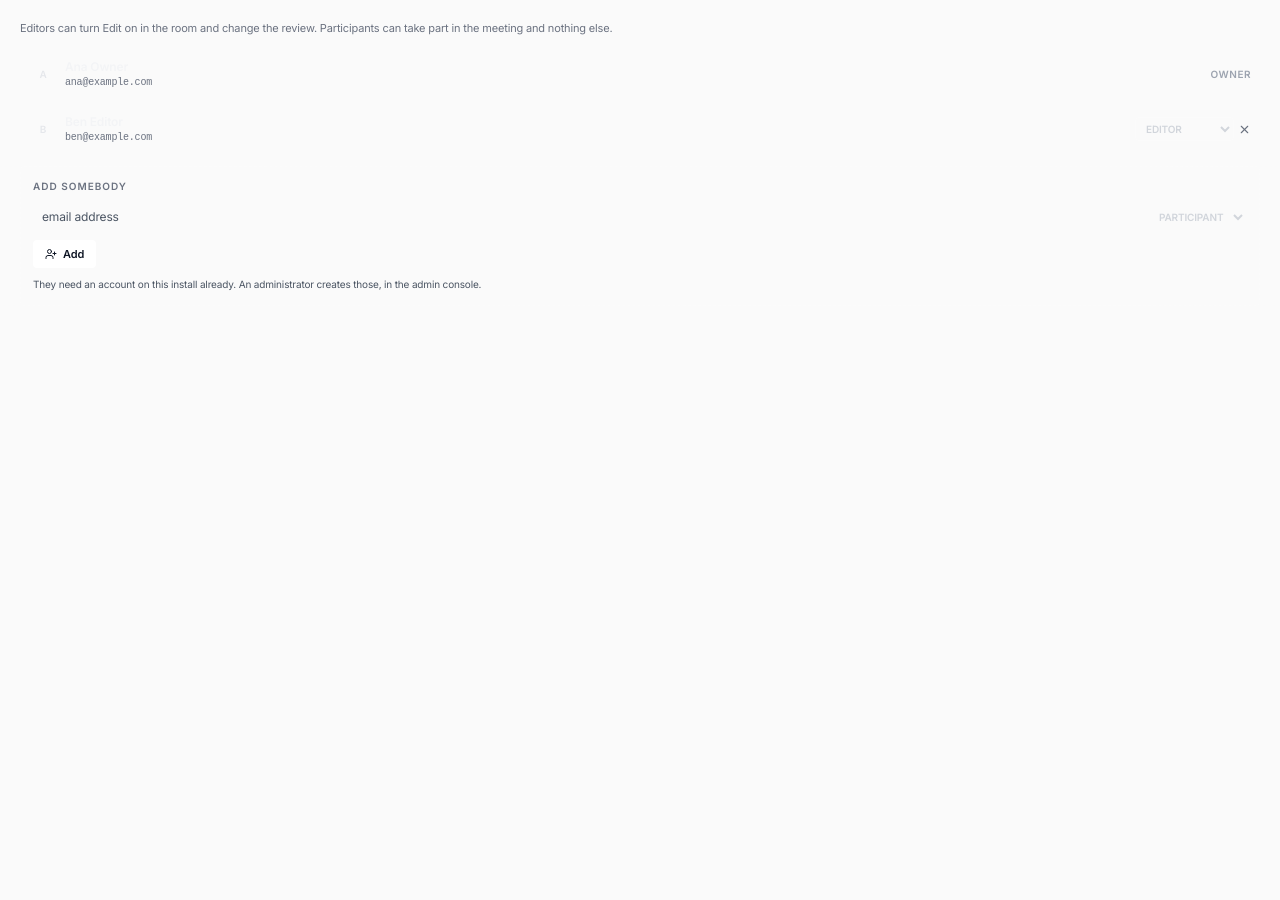
the People tab — adding somebody › refuses an empty box with its own sentence and makes no request
The image size is (1280, 900).
Click the button "Add". click: coordinates (65, 254)
box: [33, 240, 96, 268]
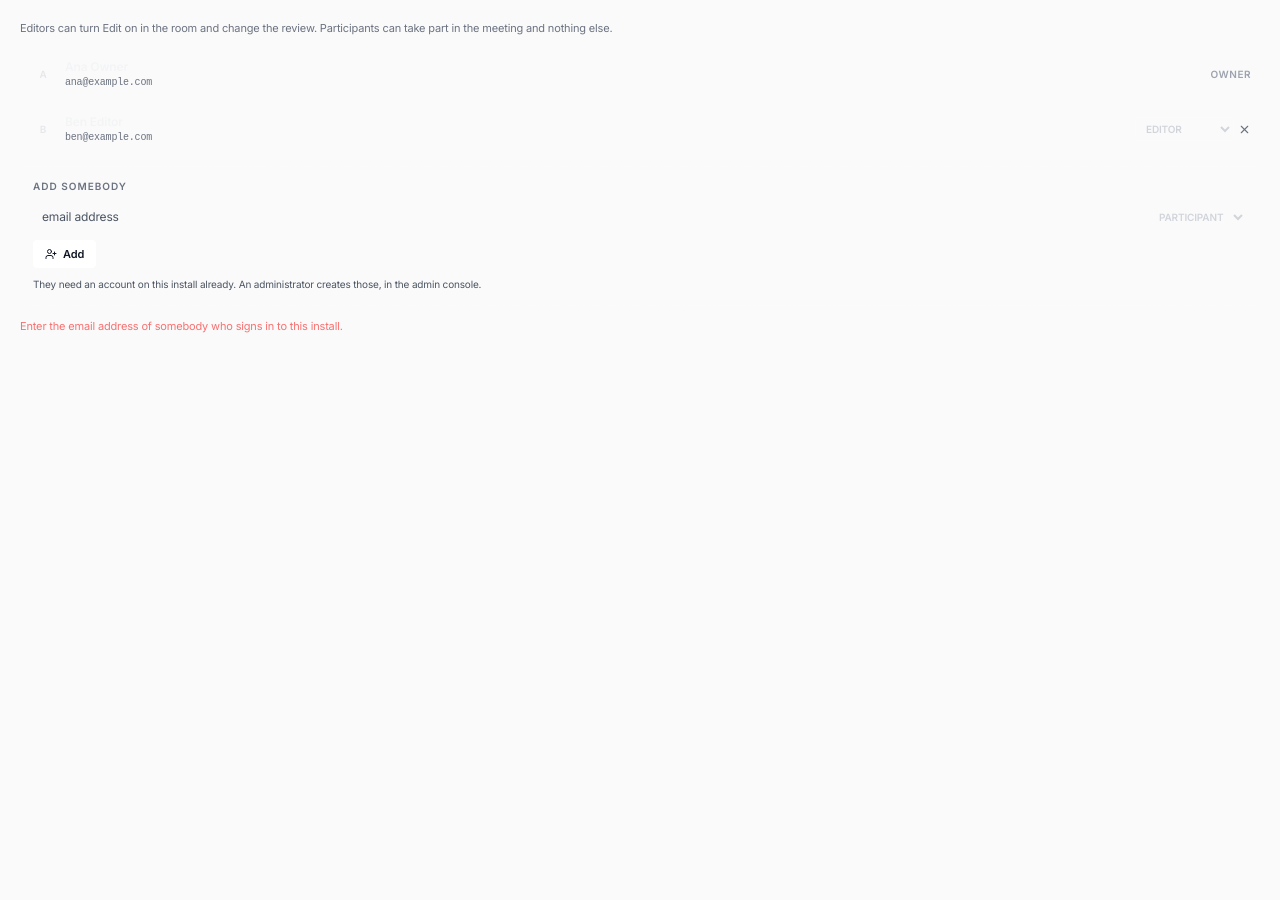
expect the text "Enter the email address of somebody who signs in to this install." is shown: met, box [20, 319, 343, 333]
